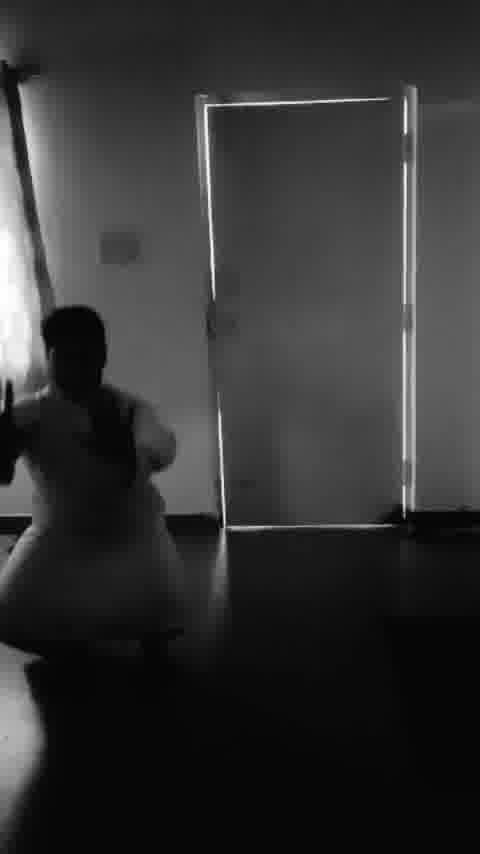duck: (3, 309, 194, 661)
